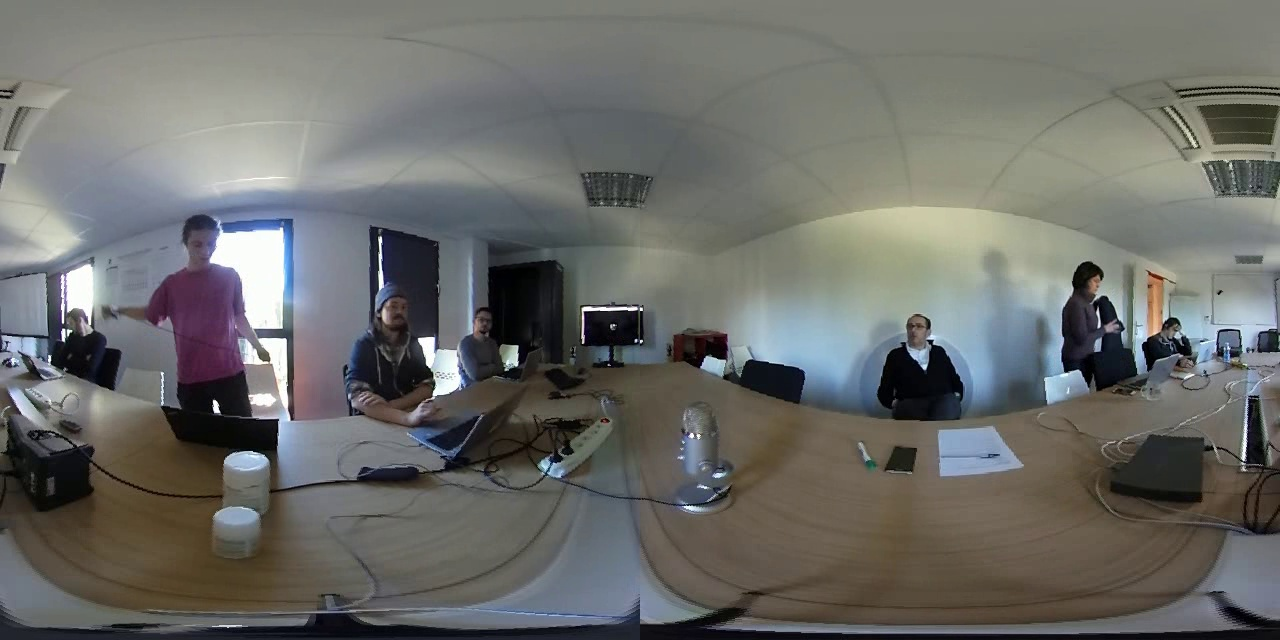person: (123, 203, 274, 400), (344, 271, 437, 412), (873, 300, 965, 422), (1056, 246, 1120, 374), (449, 298, 525, 380), (37, 300, 110, 383), (1135, 301, 1213, 364)
